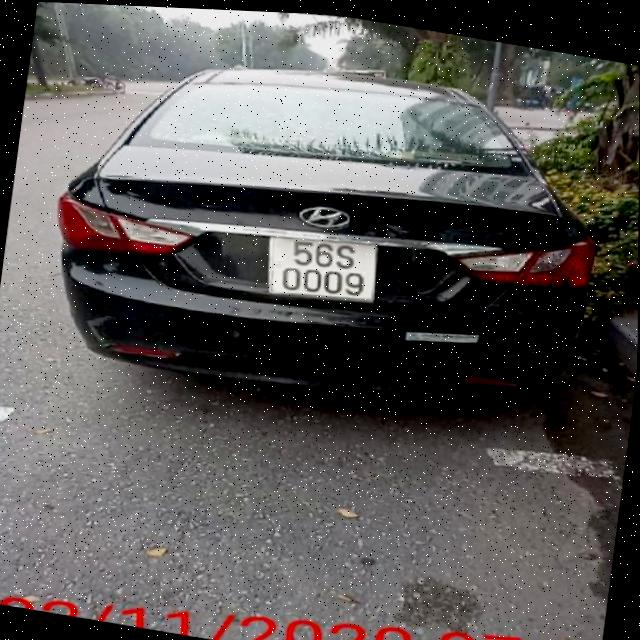car: (29, 1, 627, 457)
plate: (255, 220, 388, 318)
